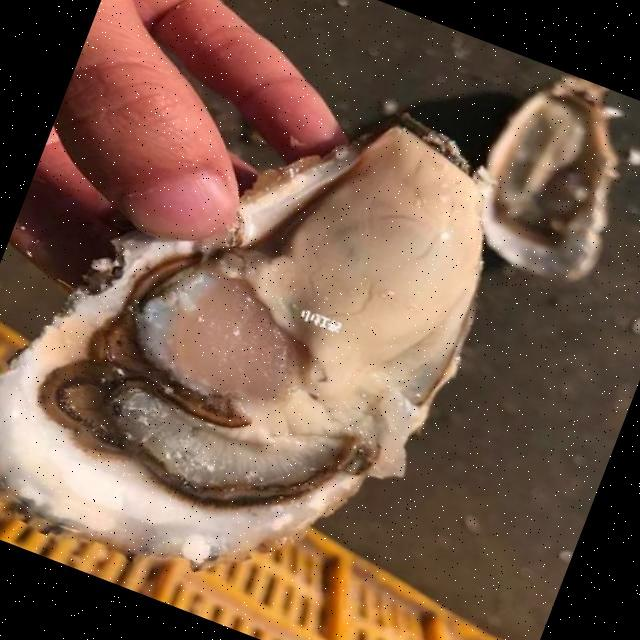Oyster-Open: (0, 117, 488, 565), (484, 77, 618, 285)
